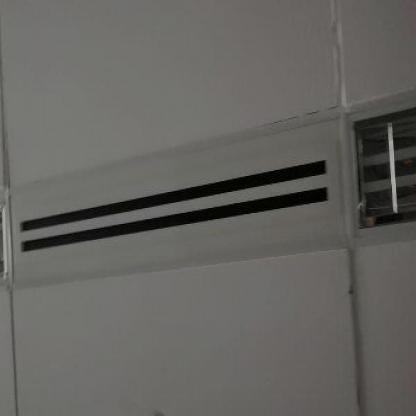light_off: (334, 70, 416, 262)
